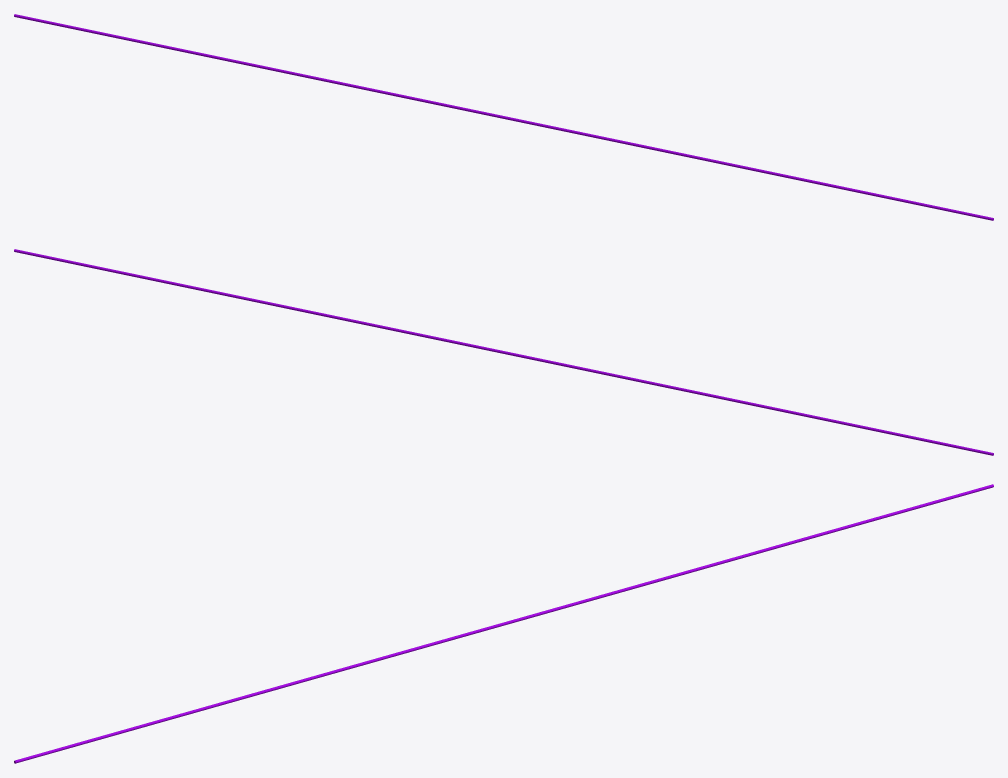
The picture shows the model from 3 angles, top to bottom: view 1: azimuth 30°, elevation 25°; view 2: azimuth 210°, elevation 25°; view 3: azimuth 270°, elevation 25°; orthographic projection. The views are drawn at different scales.
Visible parts, largest first — view 1: Цилиндр; view 2: Цилиндр; view 3: Цилиндр.
Part boxes in pixels (x1,y1,x2,y2): Цилиндр: (14, 14, 993, 220); Цилиндр: (14, 249, 993, 455); Цилиндр: (14, 484, 993, 763).
Bounding box in the file's own units: 2.08 × 0.01 × 3.11.
